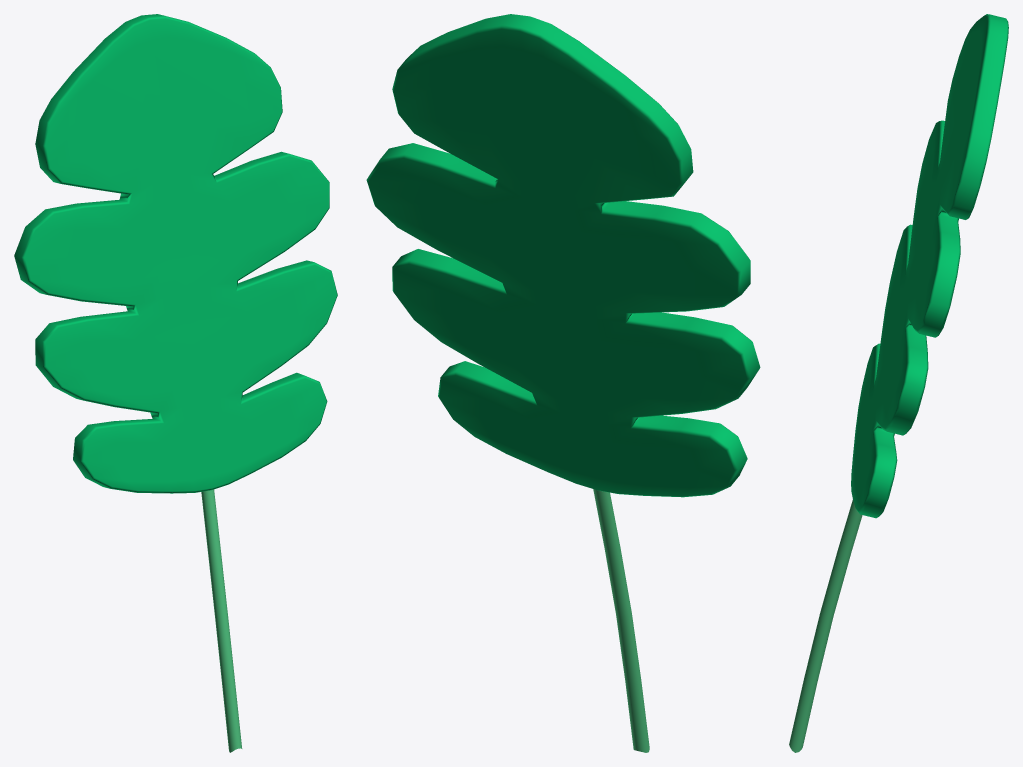
File: Town_10_Plant_3.glb
The picture shows the model from 3 angles, left to right: view 1: azimuth 30°, elevation 25°; view 2: azimuth 150°, elevation 25°; view 3: azimuth 270°, elevation 25°; orthographic projection. The views are drawn at different scales.
Parts seen in each view (by area): view 1: Town_10_Plant_3; view 2: Town_10_Plant_3; view 3: Town_10_Plant_3.
Boxes of the visible parts, x1,y1,x2,y2 form: Town_10_Plant_3: (14,14,337,752); Town_10_Plant_3: (366,14,760,752); Town_10_Plant_3: (789,14,1008,752).
Bounding box in the file's own units: 1.01 × 2.09 × 0.5691.
1 material, 1 textured.
